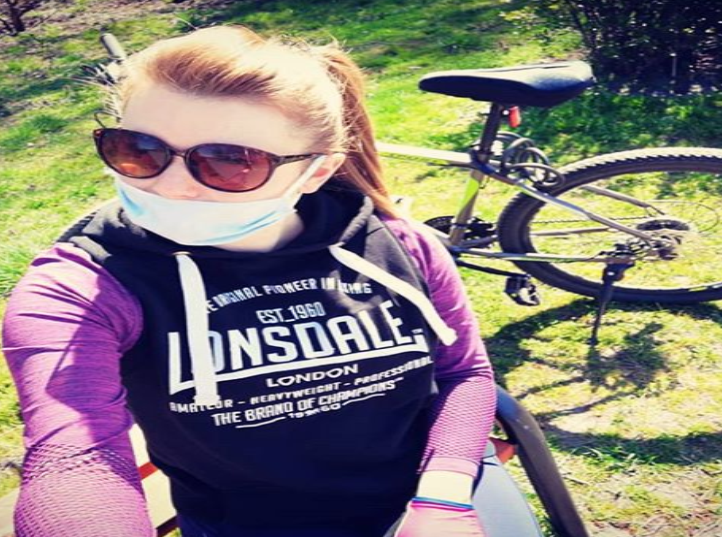mask_weared_incorrect: (86, 30, 359, 249)
